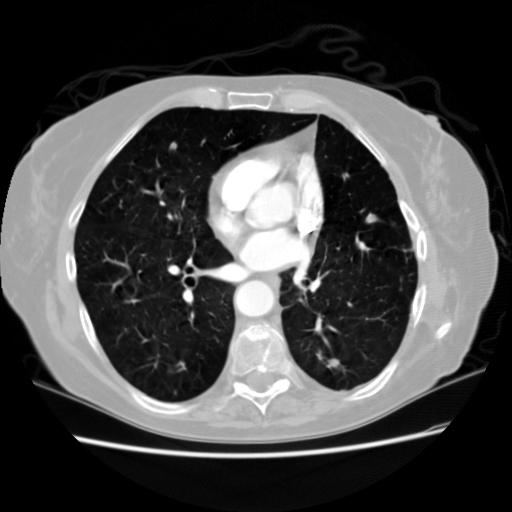nodule: (330, 357, 345, 372)
